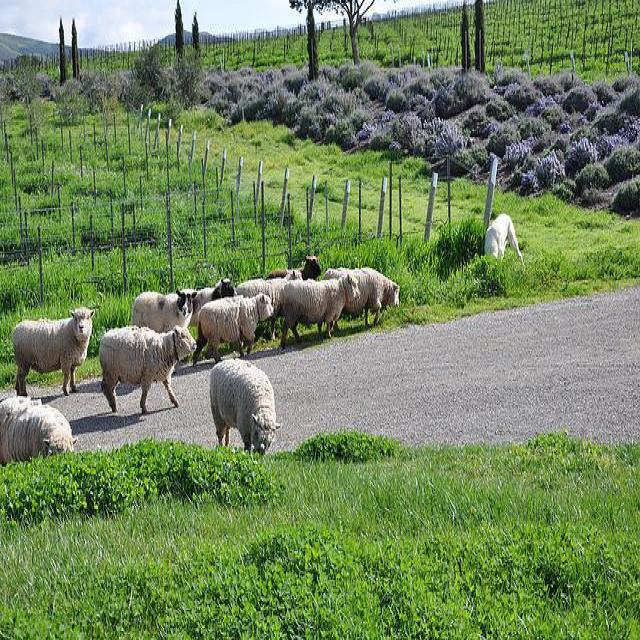Sheep: (97, 322, 199, 423), (210, 352, 279, 460), (13, 307, 95, 396), (189, 294, 275, 368), (280, 272, 360, 351), (0, 396, 78, 465), (236, 269, 304, 345), (323, 265, 400, 325), (182, 276, 234, 330), (484, 212, 526, 271)
